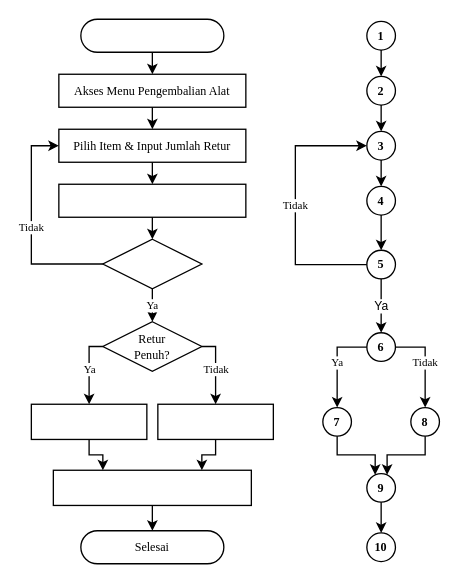
This 460x584 diagram has some shape labels left out. The shapes that lost their labels are listed below. From the top down, each one's centre as x and y in pixels, then its label:
(152,35): Mulai
(152,200): Validasi Jumlah Pengembalian
(152,263): Data Valid?
(88,421): Update Status Selesai
(215,421): Update Sisa Pinjaman
(151,487): Restorasi Stok & Simpan Data
